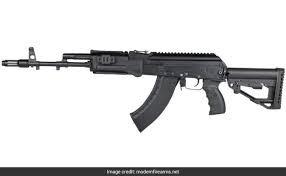gun: (1, 45, 286, 133)
